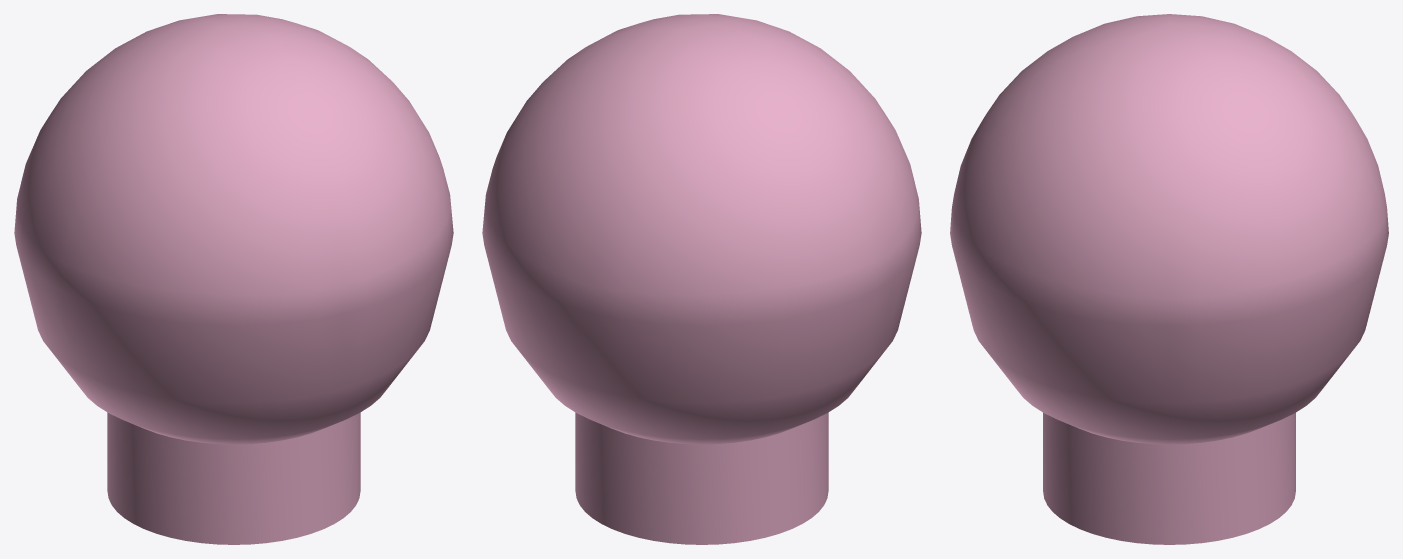
The model's file is open.dae.
3 renders of one model, left to right at view 1: azimuth 30°, elevation 25°; view 2: azimuth 150°, elevation 25°; view 3: azimuth 270°, elevation 25°, orthographic.
Visible parts, largest first — view 1: Inner-Node-open_dot_io-0; view 2: Inner-Node-open_dot_io-0; view 3: Inner-Node-open_dot_io-0.
Part boxes in pixels (x1,y1,x2,y2): Inner-Node-open_dot_io-0: (14, 14, 453, 544); Inner-Node-open_dot_io-0: (482, 14, 921, 544); Inner-Node-open_dot_io-0: (950, 14, 1388, 544).
Size of the model in its own units: 27.53 by 31.64 by 27.53.
